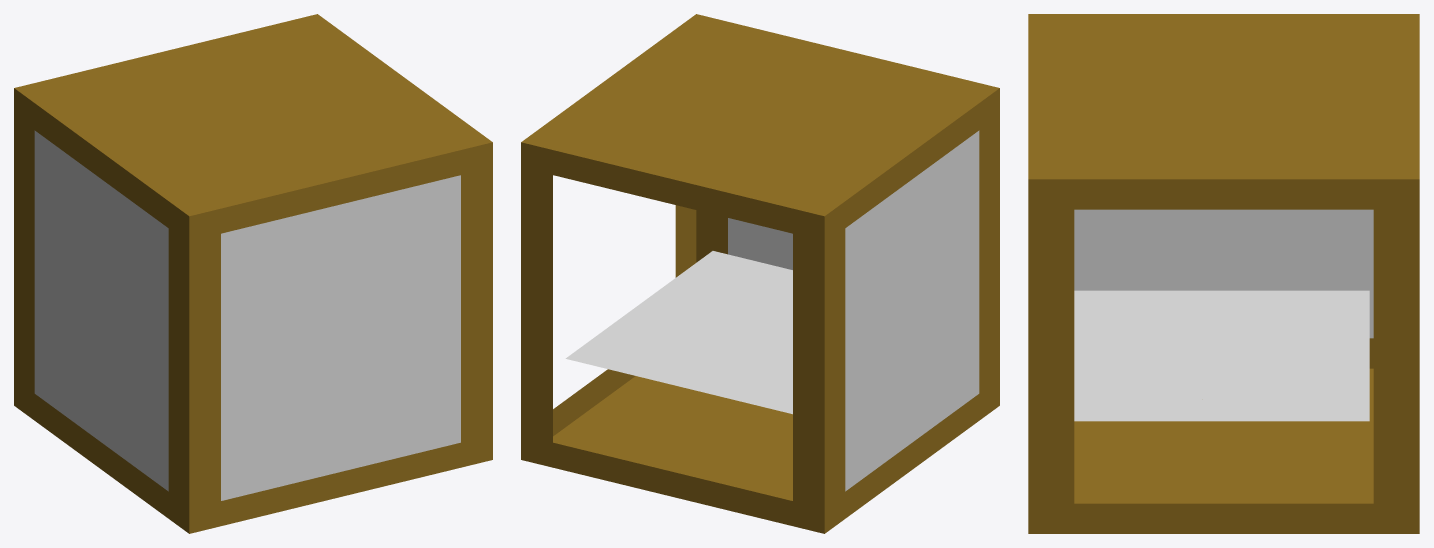
File: teca.fbx
3 views of the same model, side by side, from view 1: azimuth 30°, elevation 25°; view 2: azimuth 150°, elevation 25°; view 3: azimuth 270°, elevation 25° (orthographic). The views are drawn at different scales.
Parts seen in each view (by area): view 1: Cube; view 2: Cube, Cube.001; view 3: Cube, Cube.001.
Boxes of the visible parts, x1,y1,x2,y2 form: Cube: (14,14,492,533); Cube: (521,14,999,533); Cube.001: (565,251,792,414); Cube: (1028,14,1419,533); Cube.001: (1074,290,1369,421).
Size of the model in its own units: 200 by 200 by 200.
